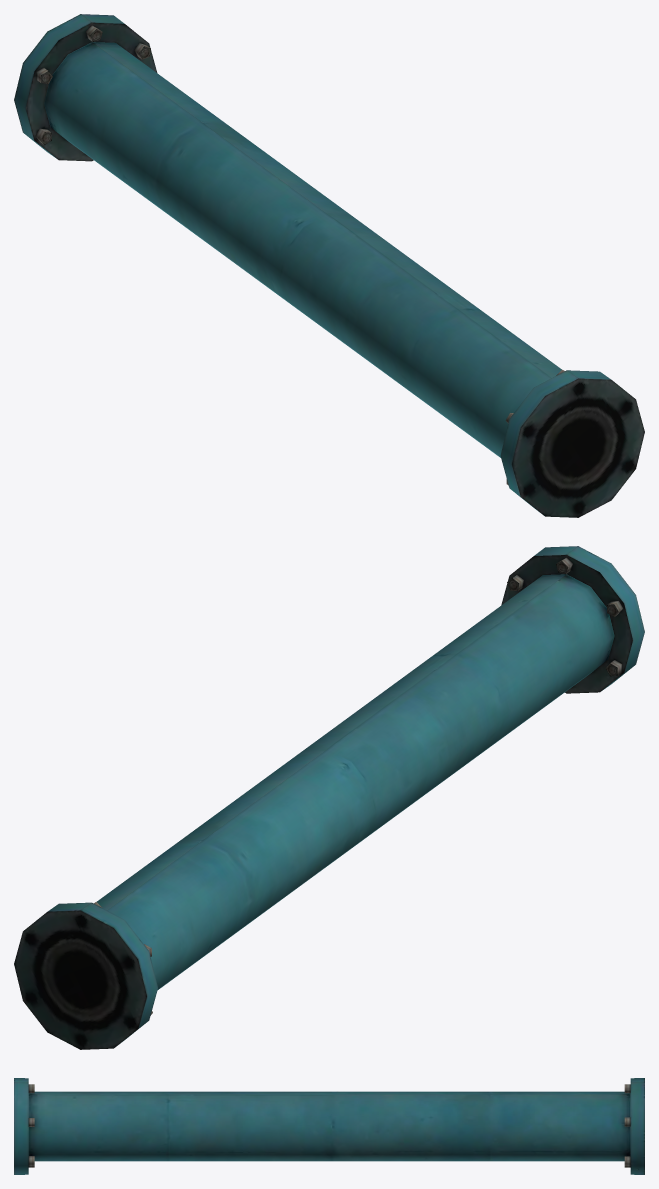
3 views of the same model, one above another, from view 1: azimuth 30°, elevation 25°; view 2: azimuth 150°, elevation 25°; view 3: azimuth 270°, elevation 25° (orthographic). The views are drawn at different scales.
Parts seen in each view (by area): view 1: body0_model0_lod0_mesh0; view 2: body0_model0_lod0_mesh0; view 3: body0_model0_lod0_mesh0.
Boxes of the visible parts, x1,y1,x2,y2 form: body0_model0_lod0_mesh0: (14, 14, 644, 517); body0_model0_lod0_mesh0: (14, 546, 644, 1049); body0_model0_lod0_mesh0: (14, 1078, 644, 1174).
Size of the model in its own units: 39.58 by 39.58 by 256.
Materials: 1 (1 with a texture image).
